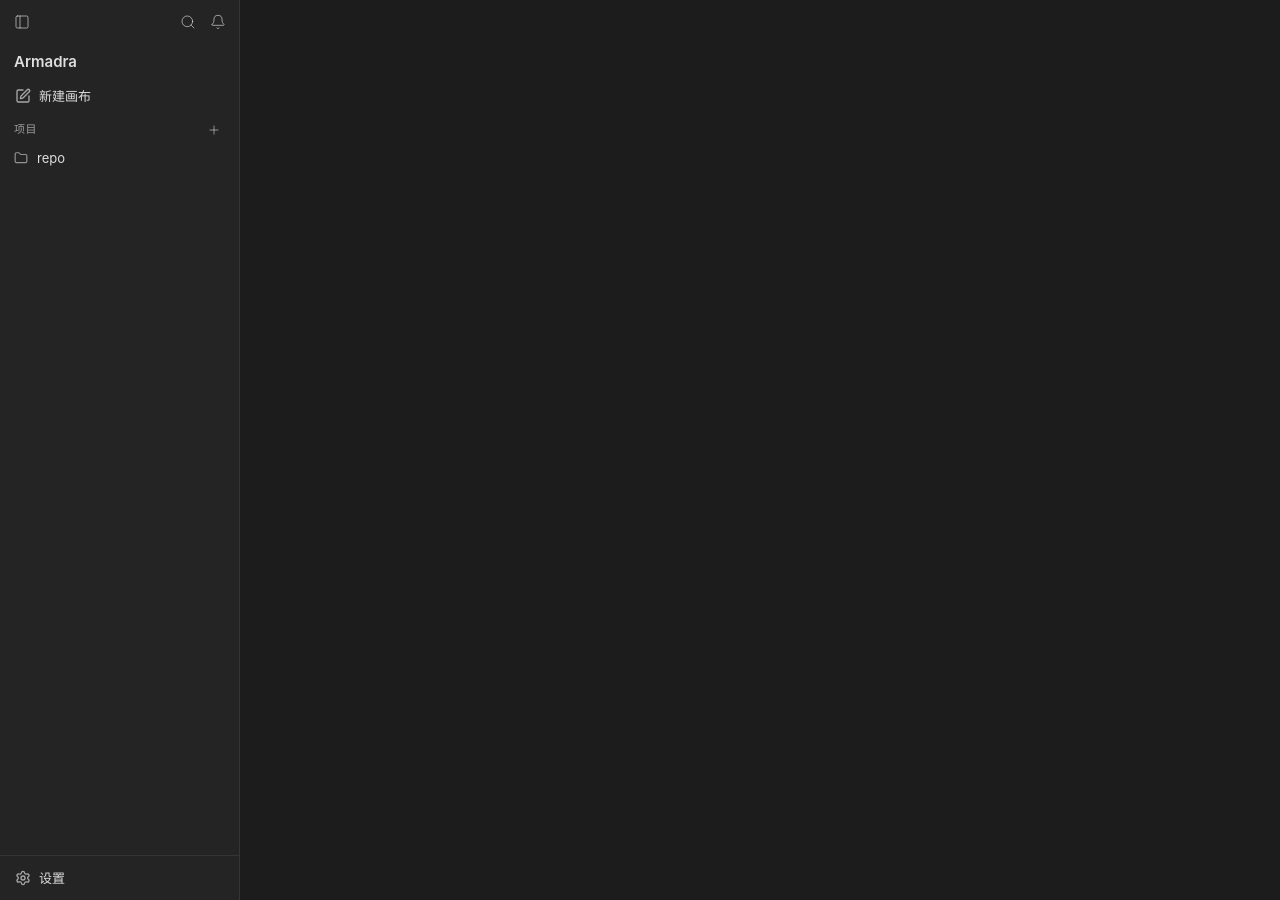
Test: LeftSidebar › 搜索打开搜索面板，不再是命令面板
Click the button named "搜索" at [188, 22], box [174,8,202,36]
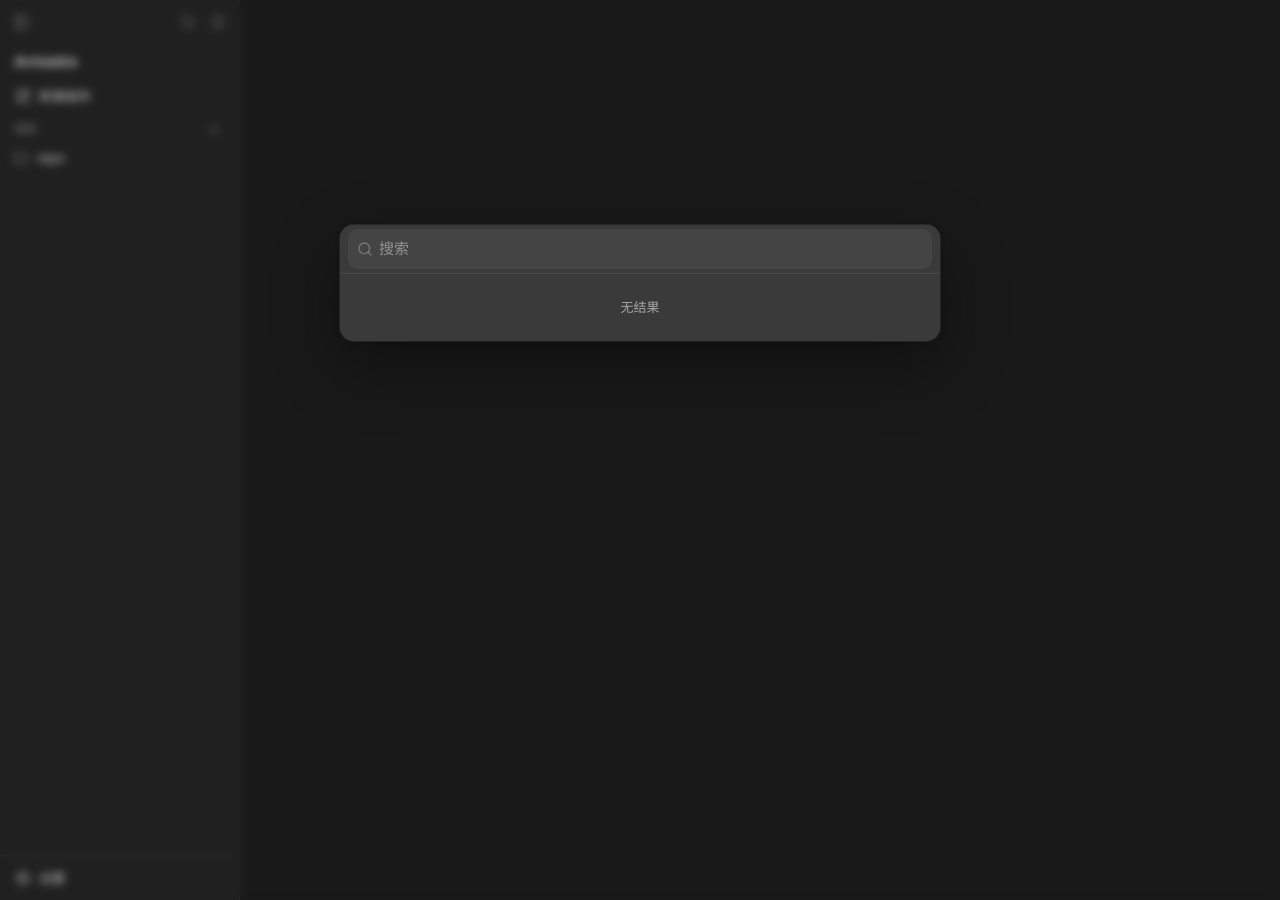
Check: the dropdown with placeholder "搜索" is shown, box [373,238,931,260]
